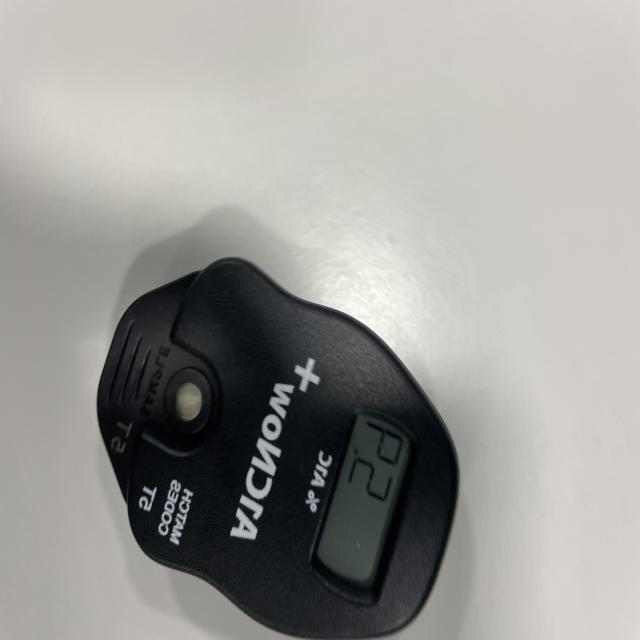hba1c: (95, 257, 460, 640)
